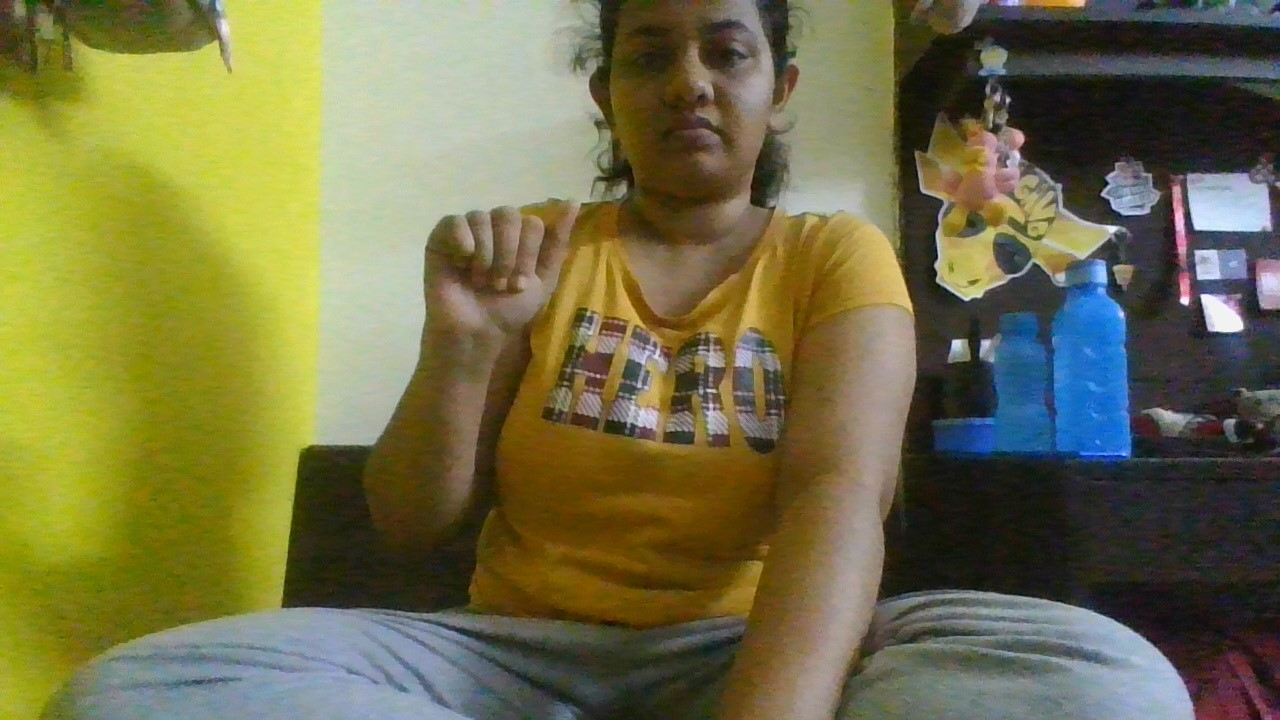a: (399, 194, 592, 362)
